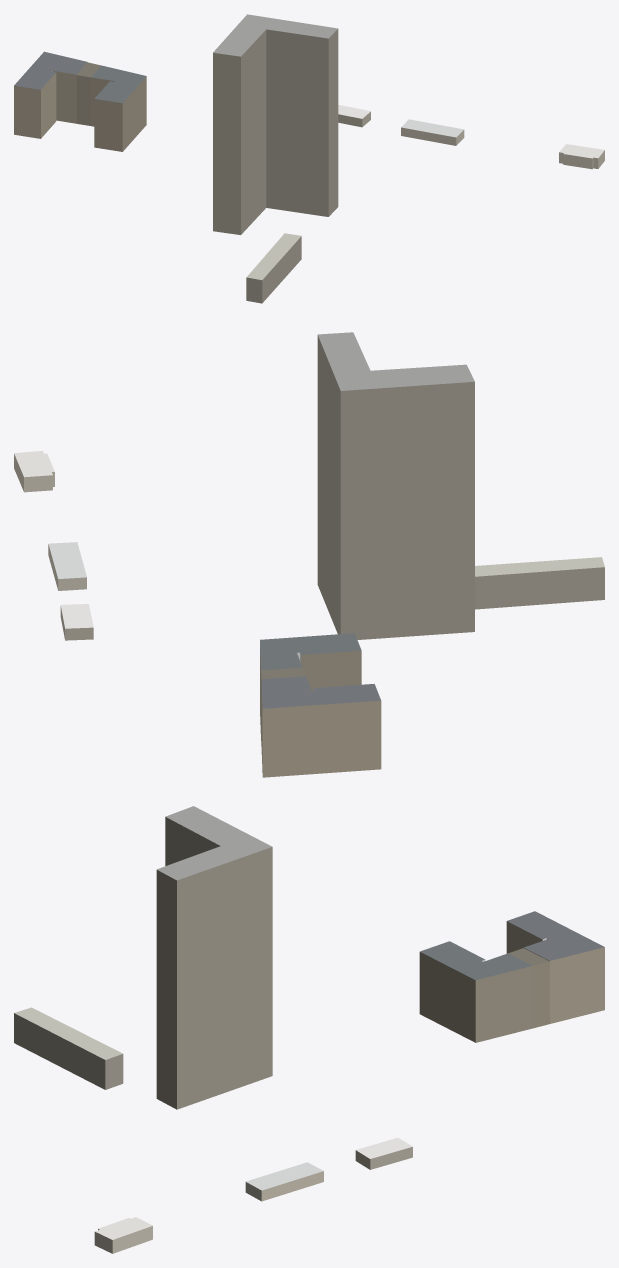
3 renders of one model, top to bottom at view 1: azimuth 30°, elevation 25°; view 2: azimuth 150°, elevation 25°; view 3: azimuth 270°, elevation 25°, orthographic. The views are drawn at different scales.
Parts seen in each view (by area): view 1: tuile; view 2: tuile; view 3: tuile.
Boxes of the visible parts, bbox=[...] form: tuile: bbox=[14, 14, 604, 303]; tuile: bbox=[14, 332, 604, 777]; tuile: bbox=[14, 806, 604, 1253].
Bounding box in the file's own units: 238 × 104 × 222.
